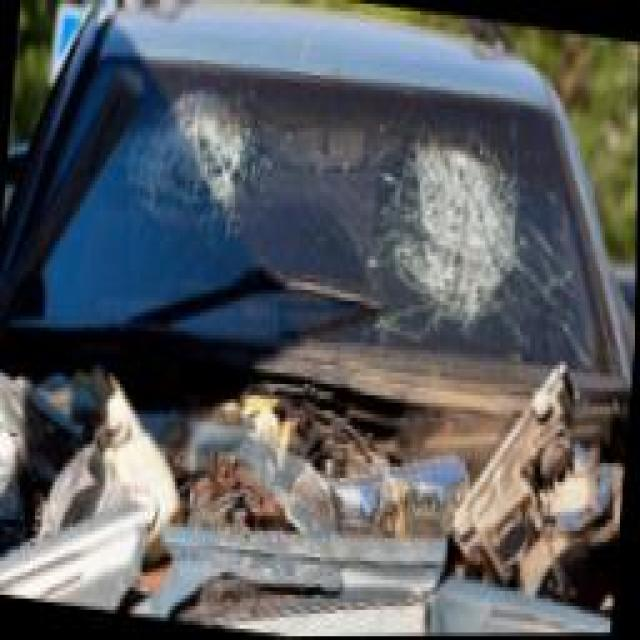Bonnet: (0, 301, 632, 640)
Windshield: (10, 23, 639, 397)
